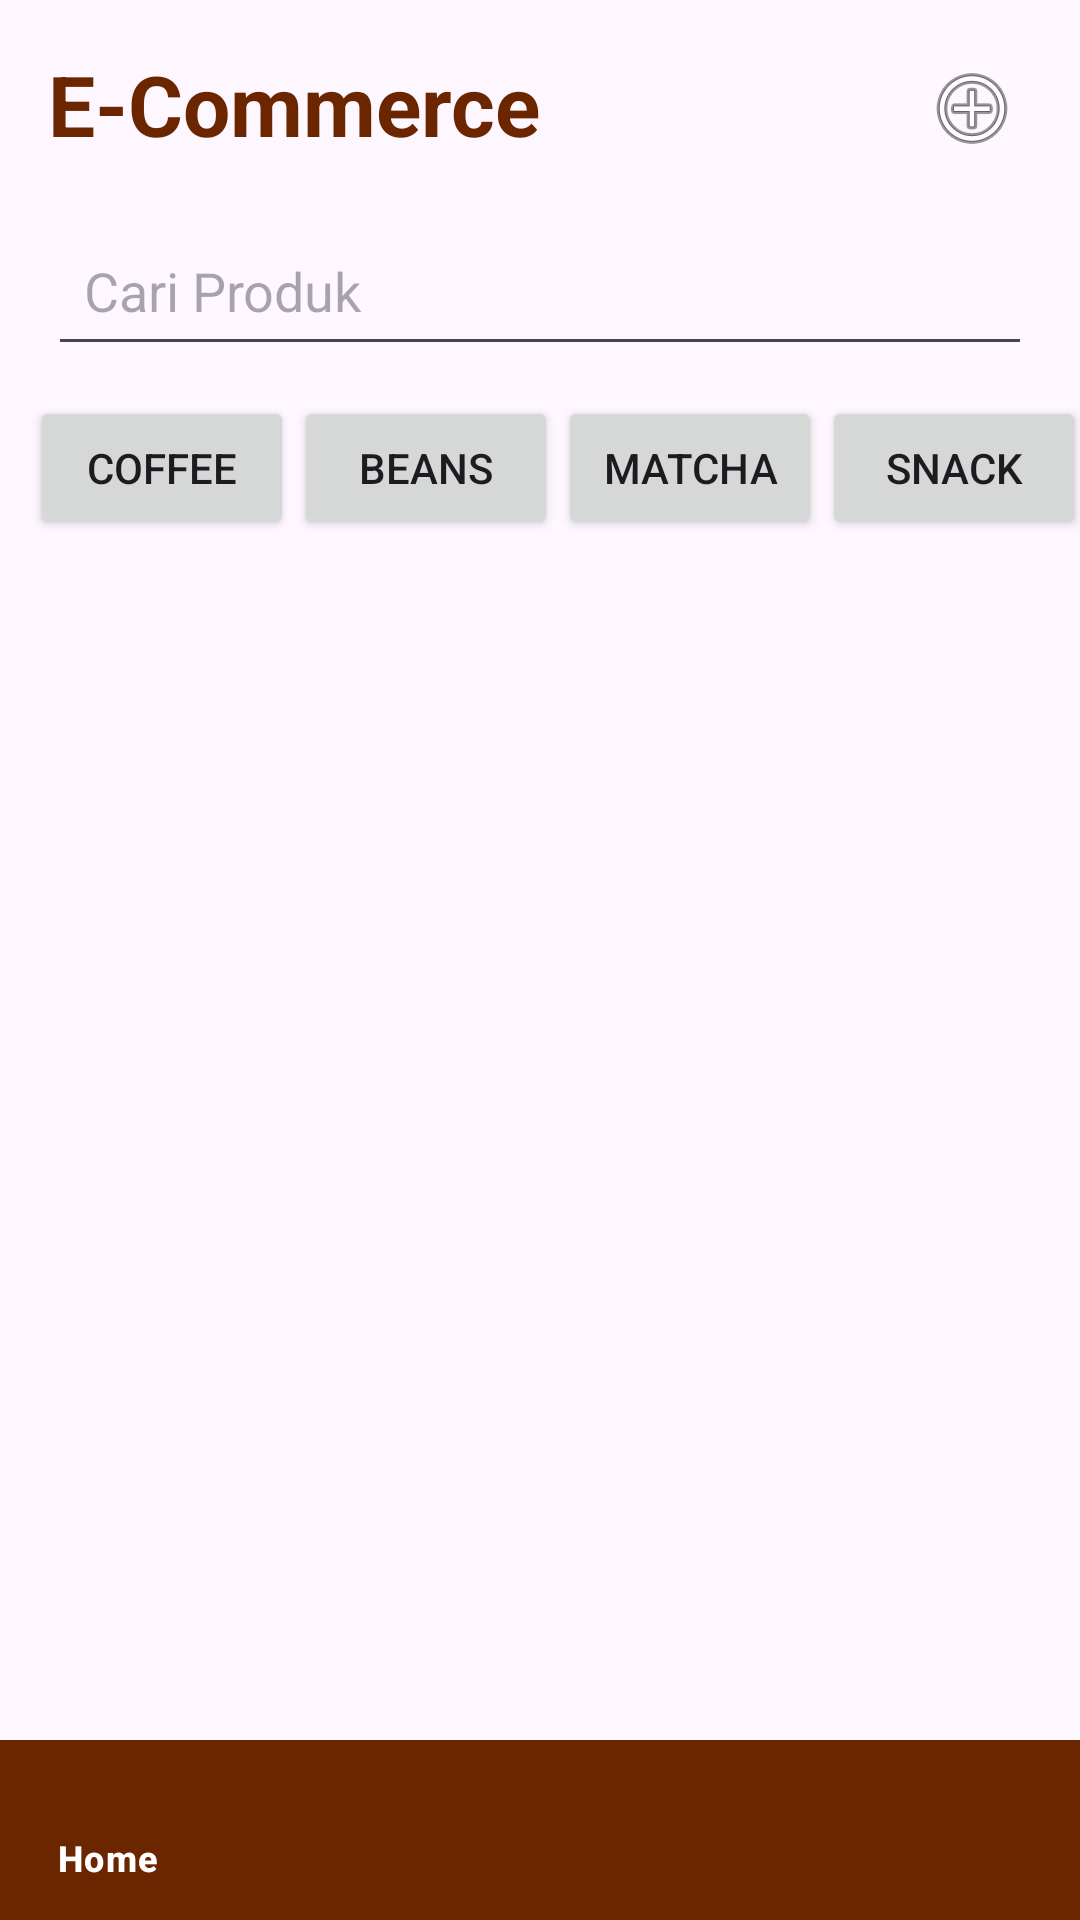

Icon bounding boxes for this 1080px×1920px phone screenshot, format (x1,y1,x2,y2):
add: (936,73,1008,144)
